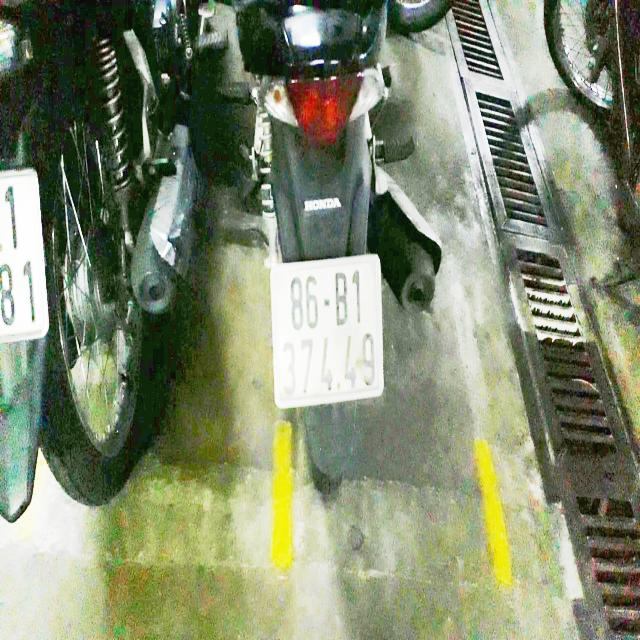license_plate: (272, 259, 384, 408)
